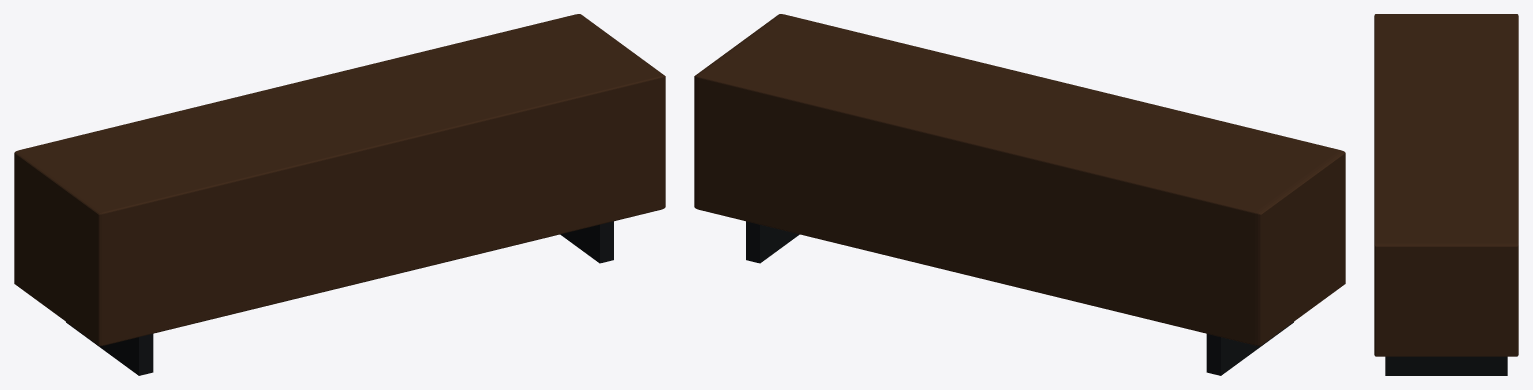
Rendered from tv_stand.glb.
3 views of the same model, side by side, from view 1: azimuth 30°, elevation 25°; view 2: azimuth 150°, elevation 25°; view 3: azimuth 270°, elevation 25° (orthographic). The views are drawn at different scales.
Parts seen in each view (by area): view 1: Cube, Cube.001, Cube.002; view 2: Cube, Cube.001, Cube.002; view 3: Cube, Cube.002.
Part boxes in pixels (bbox=[...]): Cube: bbox=[14, 14, 665, 345]; Cube.001: bbox=[66, 322, 153, 375]; Cube.002: bbox=[560, 221, 613, 263]; Cube: bbox=[694, 14, 1345, 345]; Cube.001: bbox=[1206, 322, 1293, 375]; Cube.002: bbox=[746, 221, 799, 263]; Cube: bbox=[1374, 14, 1518, 356]; Cube.002: bbox=[1385, 356, 1507, 375].
Size of the model in its own units: 1.6 by 0.48 by 0.42.
